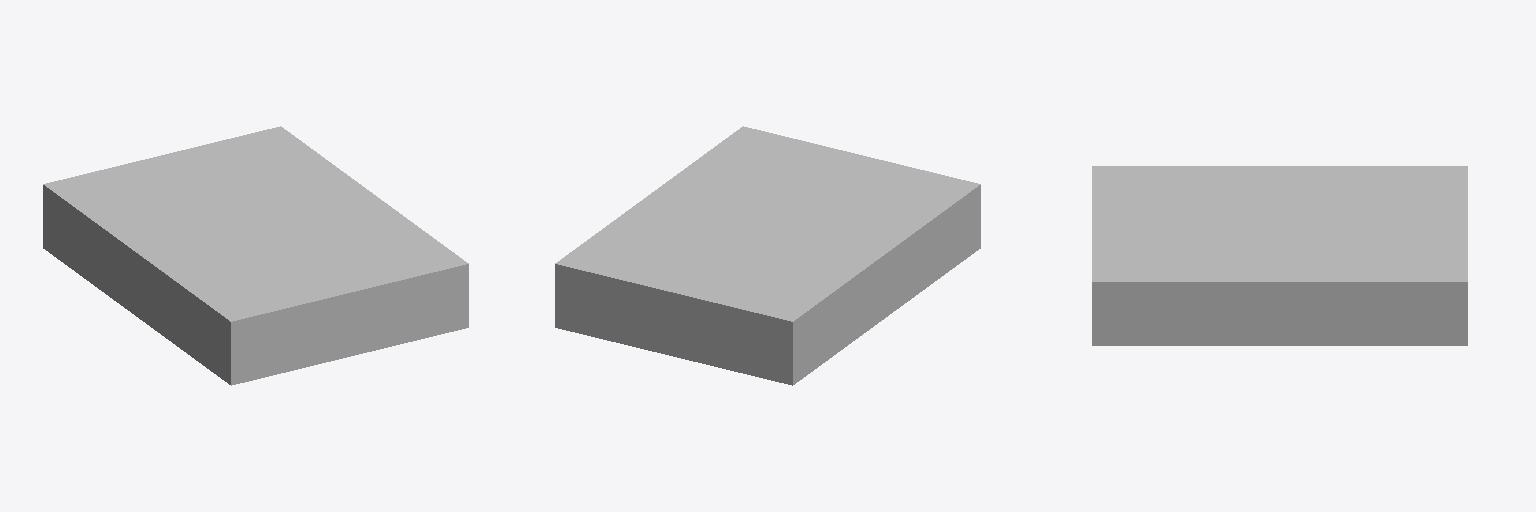
The model's file is container_v3.obj.
The picture shows the model from 3 angles: view 1: azimuth 30°, elevation 25°; view 2: azimuth 150°, elevation 25°; view 3: azimuth 270°, elevation 25°; orthographic projection.
Parts seen in each view (by area): view 1: Vasilhame_Cubo.002; view 2: Vasilhame_Cubo.002; view 3: Vasilhame_Cubo.002.
Boxes of the visible parts, x1=… form: Vasilhame_Cubo.002: x1=43, y1=126, x2=468, y2=385; Vasilhame_Cubo.002: x1=555, y1=126, x2=980, y2=385; Vasilhame_Cubo.002: x1=1092, y1=166, x2=1467, y2=345.
Size of the model in its own units: 0.076 by 0.0195 by 0.104.